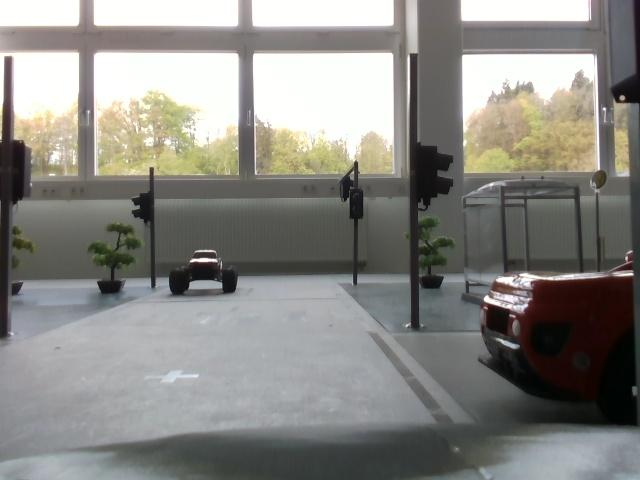car: (494, 252, 640, 422), (176, 241, 243, 299)
potted plant: (94, 223, 141, 298), (417, 217, 453, 293), (2, 230, 37, 305)
traffic light: (411, 143, 457, 204), (136, 191, 166, 228), (345, 189, 373, 222)
